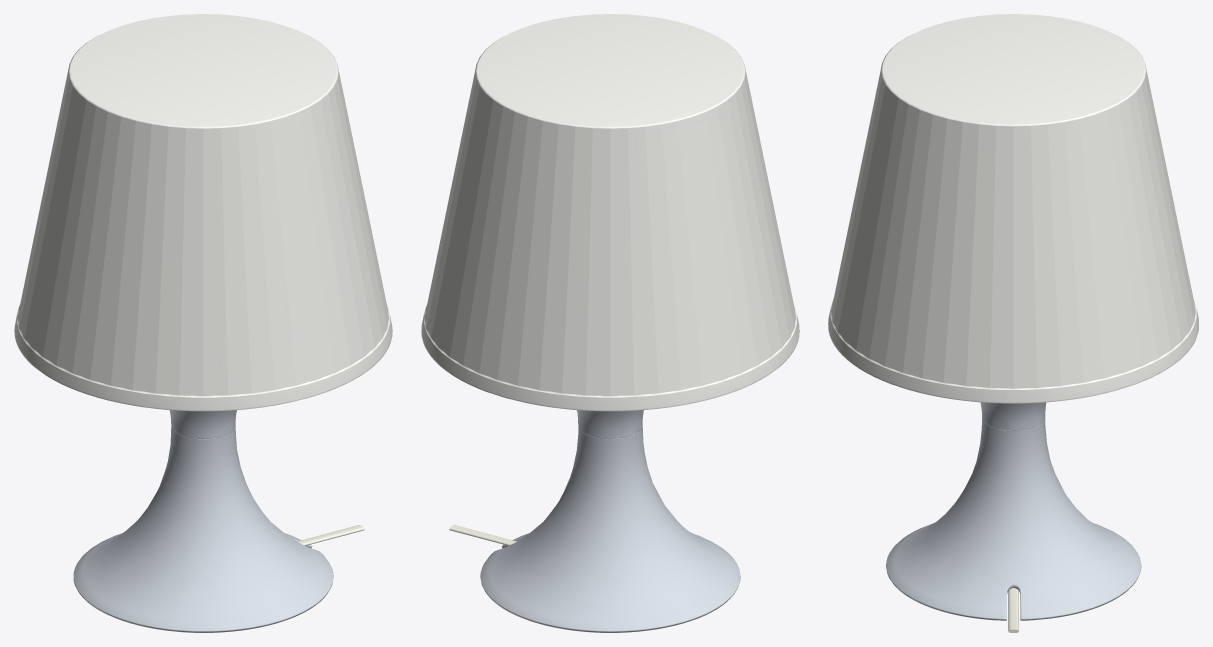
Rendered from lampan_lampa_stoowa_20046988.glb.
3 views of the same model, side by side, from view 1: azimuth 30°, elevation 25°; view 2: azimuth 150°, elevation 25°; view 3: azimuth 270°, elevation 25° (orthographic).
Visible parts, largest first — view 1: lampan_lampa_stoowa_20046988; view 2: lampan_lampa_stoowa_20046988; view 3: lampan_lampa_stoowa_20046988.
Part boxes in pixels (x1,y1,x2,y2): lampan_lampa_stoowa_20046988: (14,14,392,632); lampan_lampa_stoowa_20046988: (421,14,799,632); lampan_lampa_stoowa_20046988: (828,14,1198,632).
Size of the model in its own units: 0.1926 by 0.2857 by 0.1926.
1 material, 1 textured.
